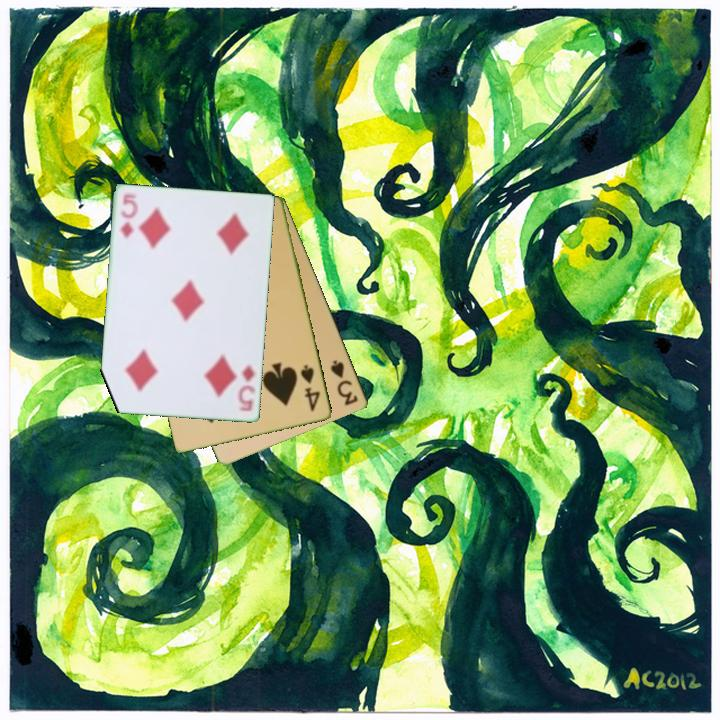3s: (327, 357, 361, 408)
4s: (297, 361, 323, 414)
5d: (235, 362, 259, 414), (117, 191, 139, 241)
